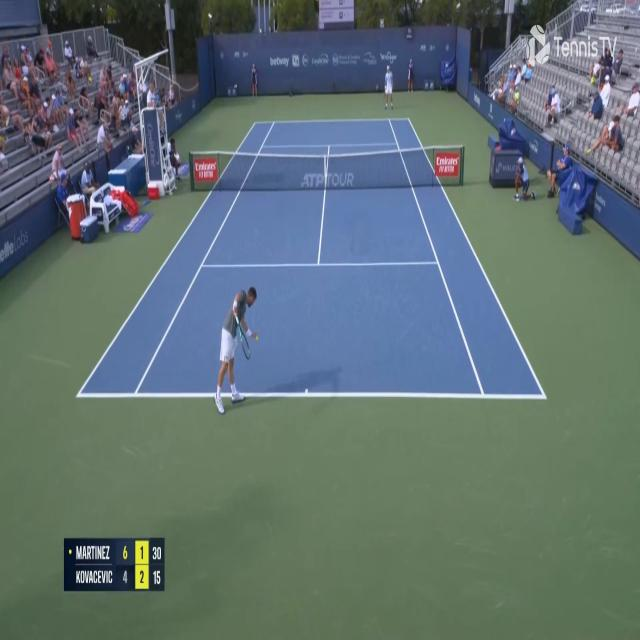tennis-player: (214, 284, 256, 418), (382, 64, 394, 109)
